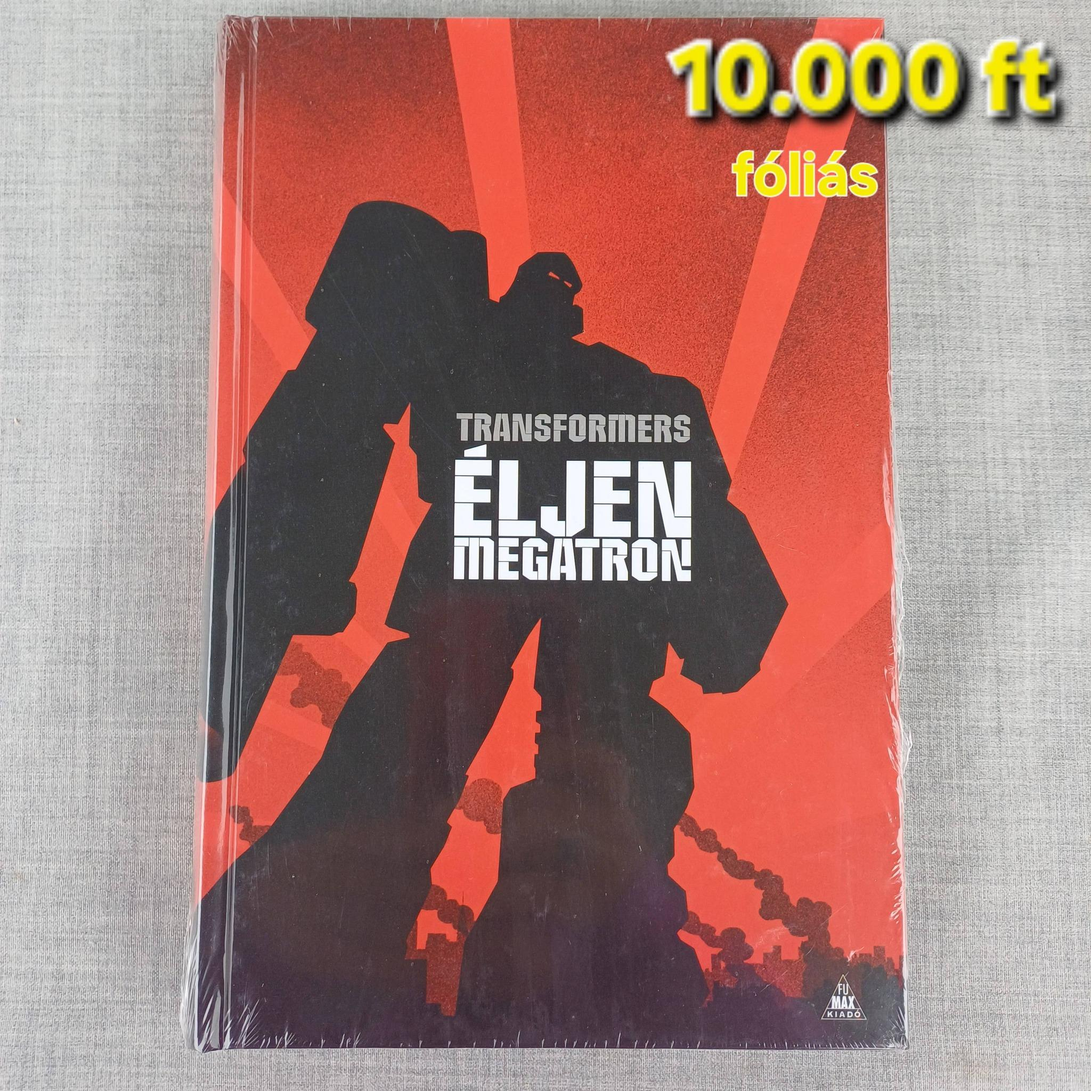comic: (183, 19, 905, 1049)
